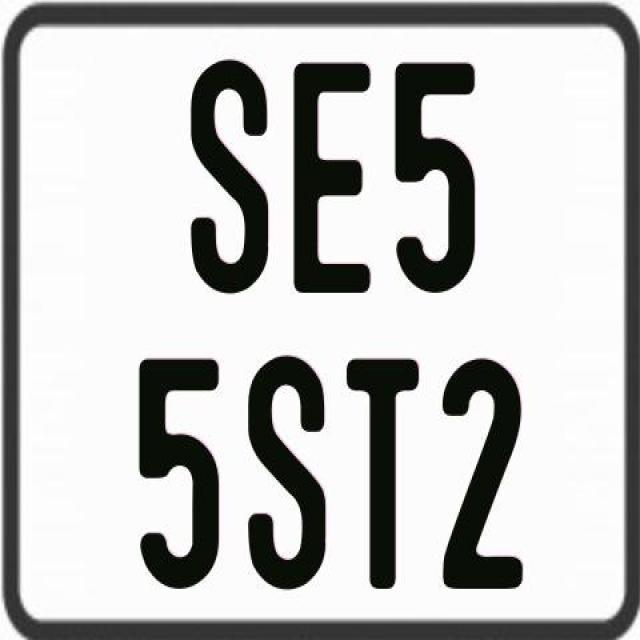2: (441, 355, 523, 595)
5: (390, 62, 478, 296), (138, 358, 218, 594)
E: (289, 59, 367, 293)
S: (188, 58, 268, 292), (247, 352, 324, 587)
T: (347, 356, 422, 594)
